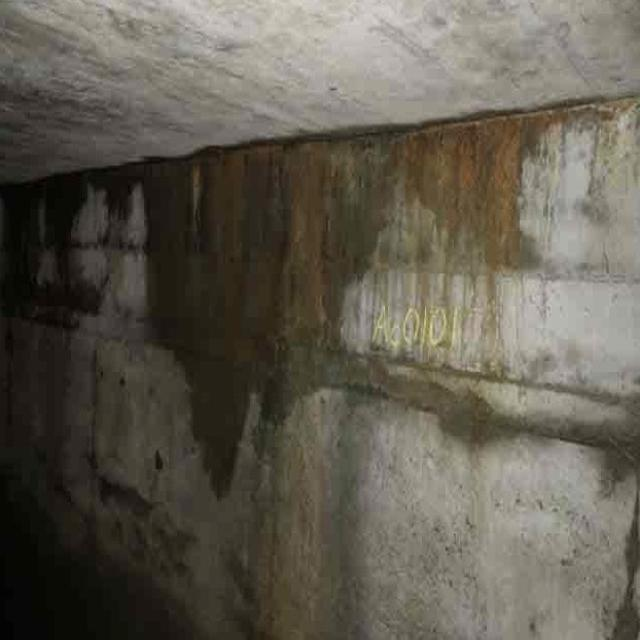leakage: (64, 121, 522, 453)
